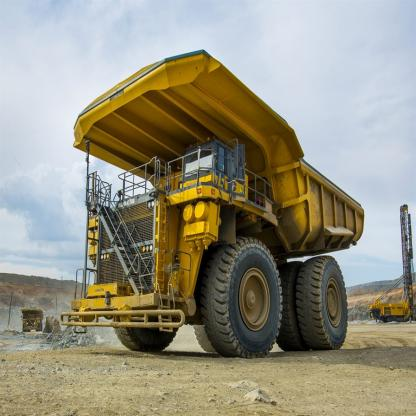dump_truck: (50, 49, 370, 365)
